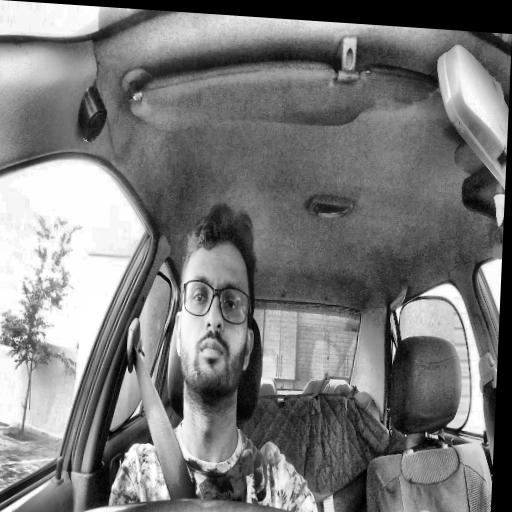awake: (172, 199, 259, 413)
